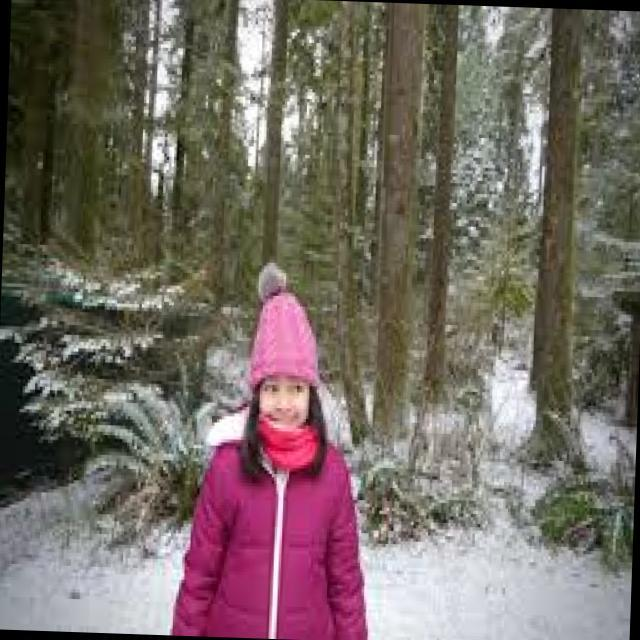coat: (169, 406, 370, 640)
